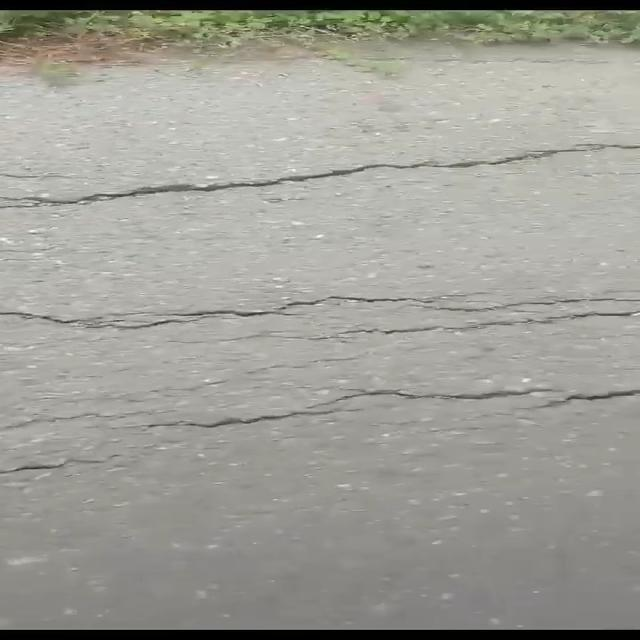Melintang: (0, 129, 640, 220), (0, 279, 640, 357), (124, 370, 640, 442)
